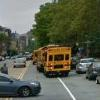Bus: (33, 44, 77, 80)
